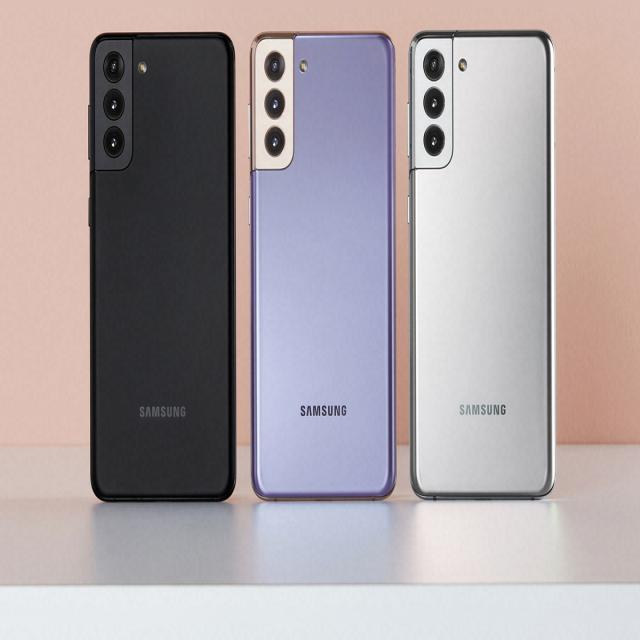phone: (86, 30, 238, 503), (407, 31, 558, 500), (248, 31, 398, 502)
